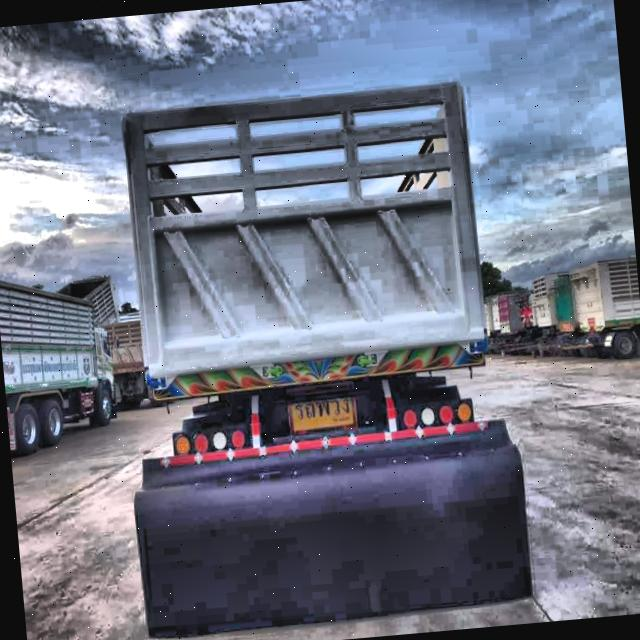trailer: (84, 37, 545, 640)
